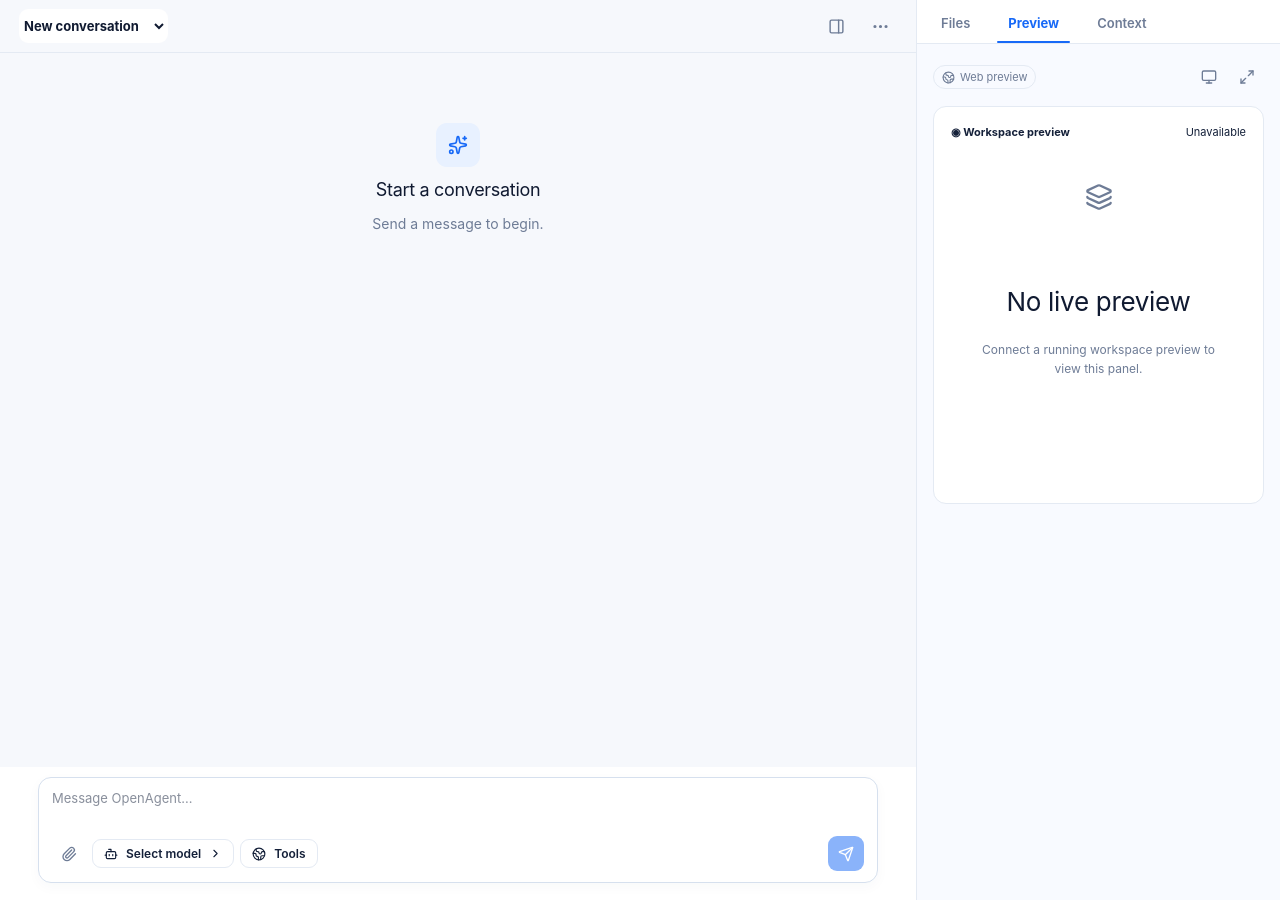
Test: saved conversation history › confirms and deletes a saved conversation through the existing Live endpoint
Click the button named "Conversation actions" at [880, 26], box [863, 9, 897, 43]
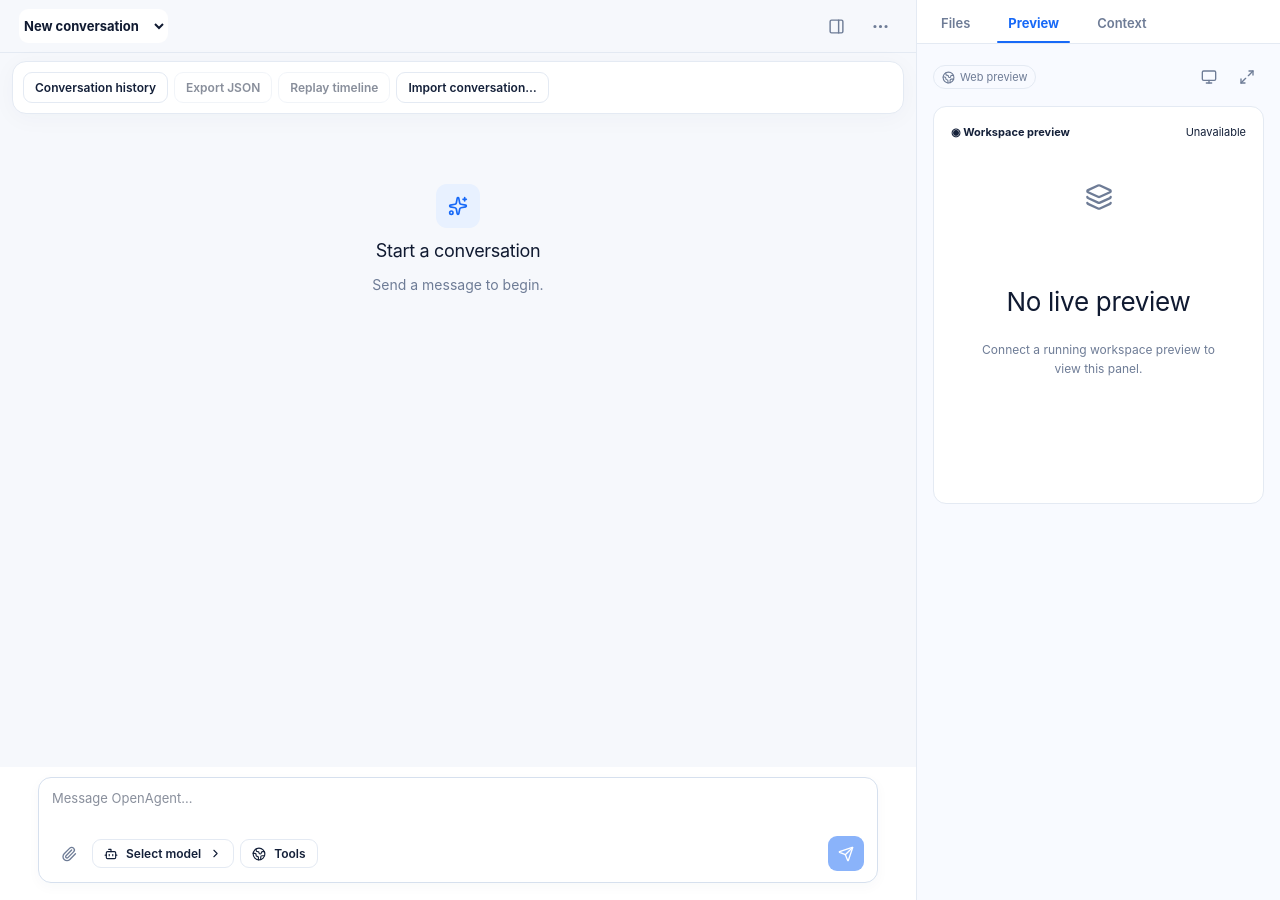
Click the button "Conversation history" at [96, 88], box [23, 72, 168, 103]
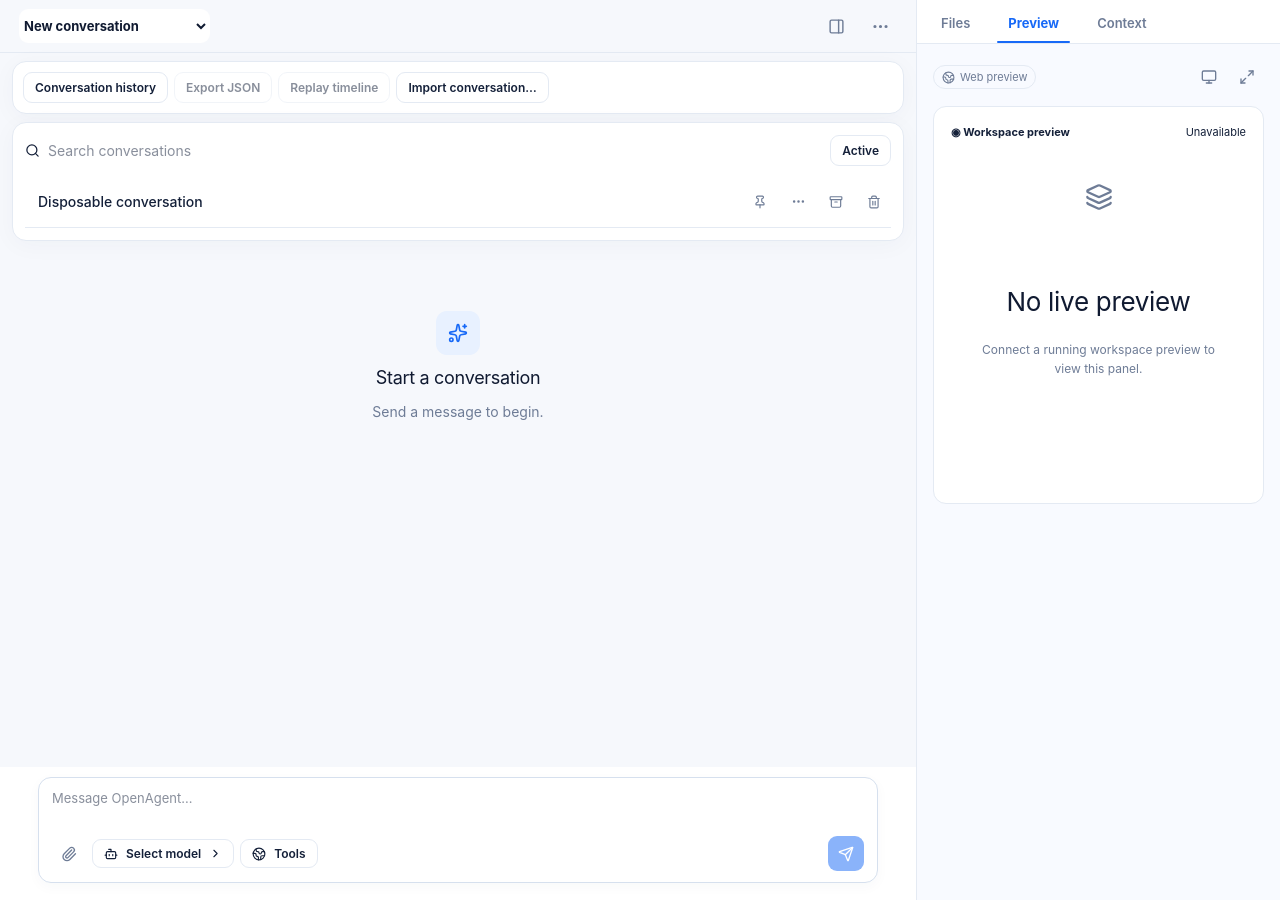
Click the button named "Delete Disposable conversation" at [874, 202], box [857, 184, 891, 218]
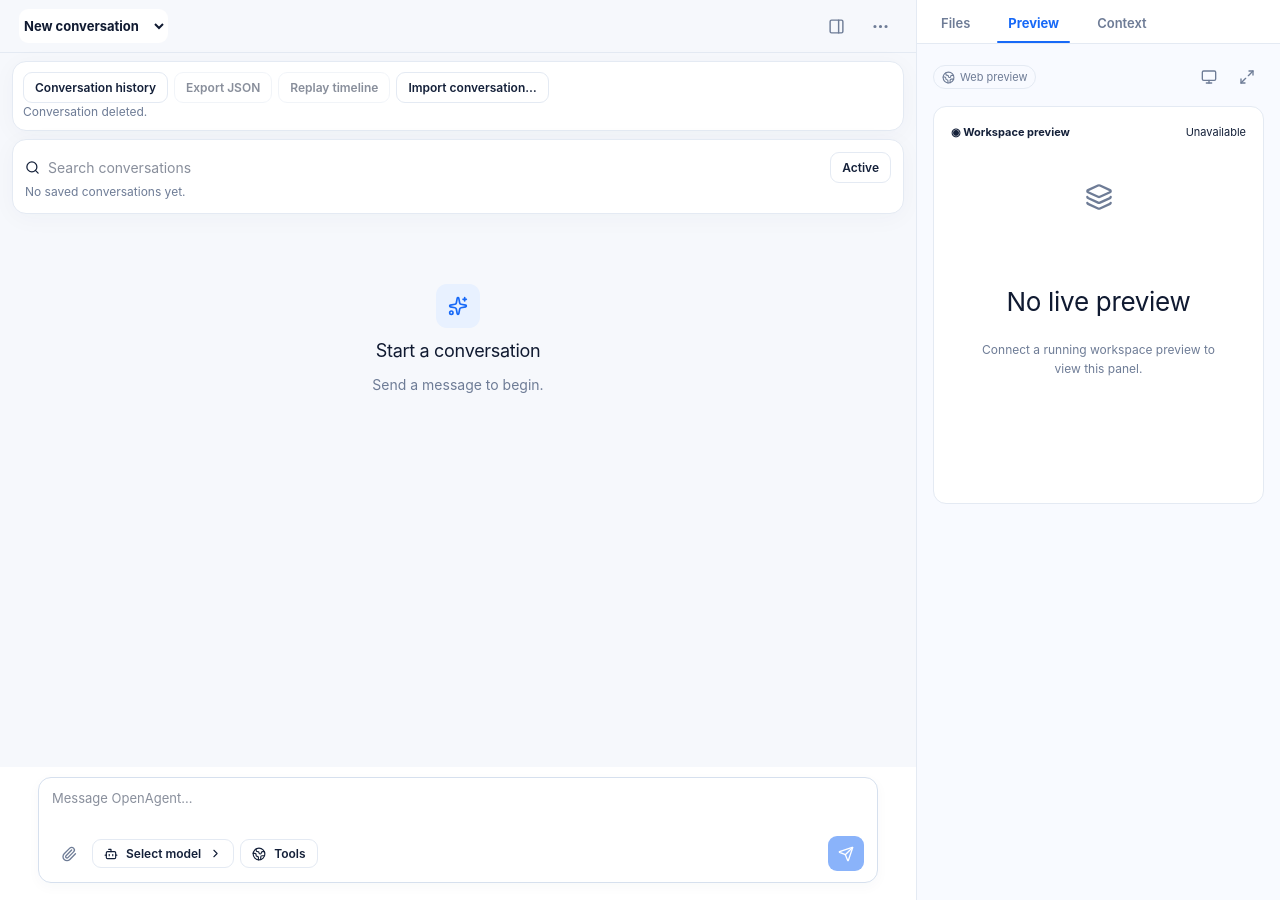
Now the text "Conversation deleted." is shown, box [23, 104, 147, 119]
Now the button "Disposable conversation" is gone
